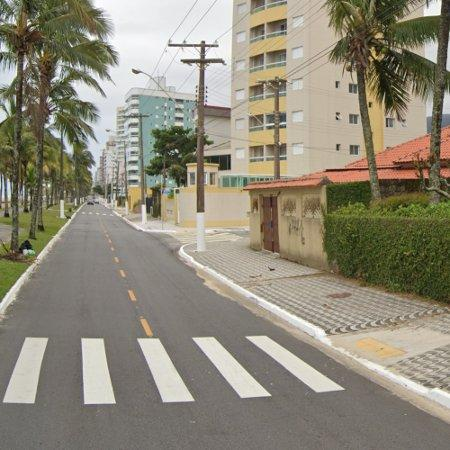crosswalks: (1, 333, 347, 404)
